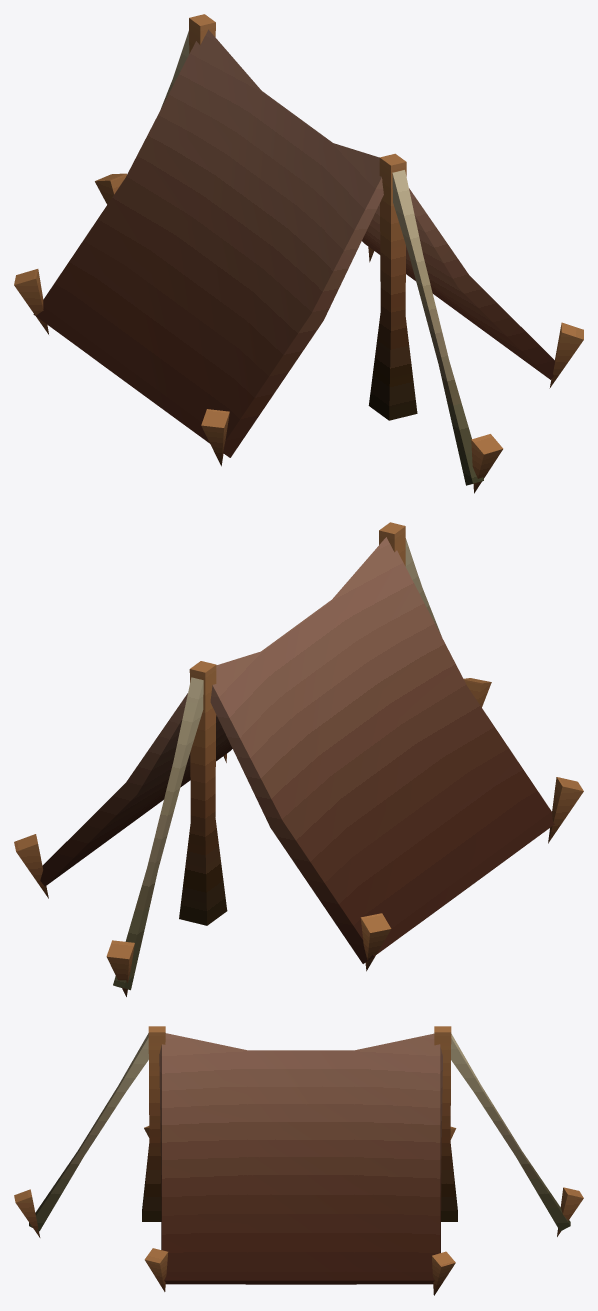
File: simple_low_poly_house_lvl1.glb
3 renders of one model, top to bottom at view 1: azimuth 30°, elevation 25°; view 2: azimuth 150°, elevation 25°; view 3: azimuth 270°, elevation 25°, orthographic. The views are drawn at different scales.
Parts seen in each view (by area): view 1: house_lvl1_houses_0; view 2: house_lvl1_houses_0; view 3: house_lvl1_houses_0.
Boxes of the visible parts, box(x1,y1,x2,y2) form: house_lvl1_houses_0: box(14, 14, 583, 493); house_lvl1_houses_0: box(14, 522, 583, 996); house_lvl1_houses_0: box(14, 1026, 583, 1295).
Bounding box in the file's own units: 3.04 × 2.1 × 5.2.
Materials: 1 (1 with a texture image).
